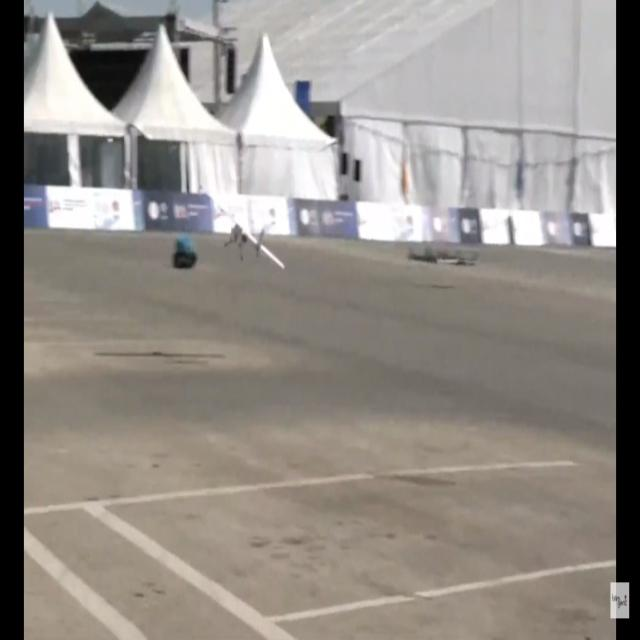iha: (201, 210, 255, 246)
